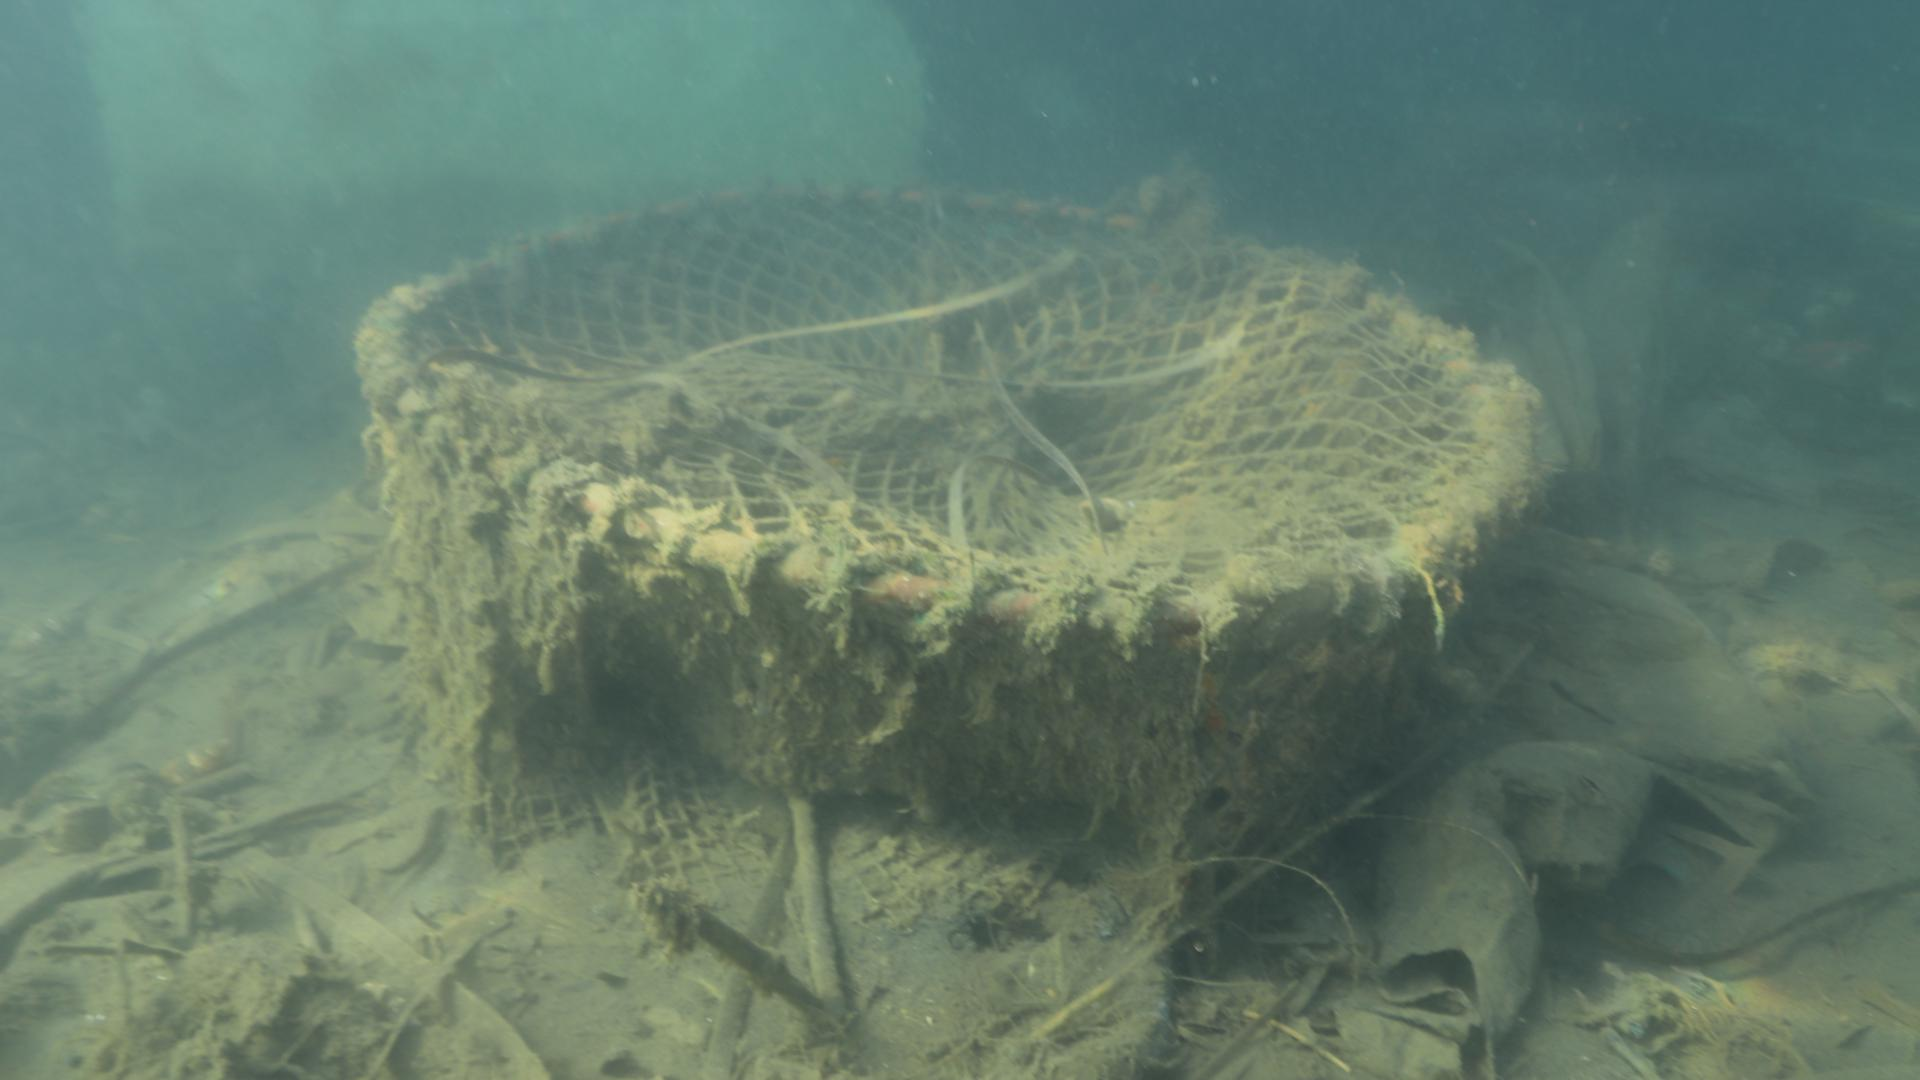circular fish trap: (353, 178, 1540, 899)
